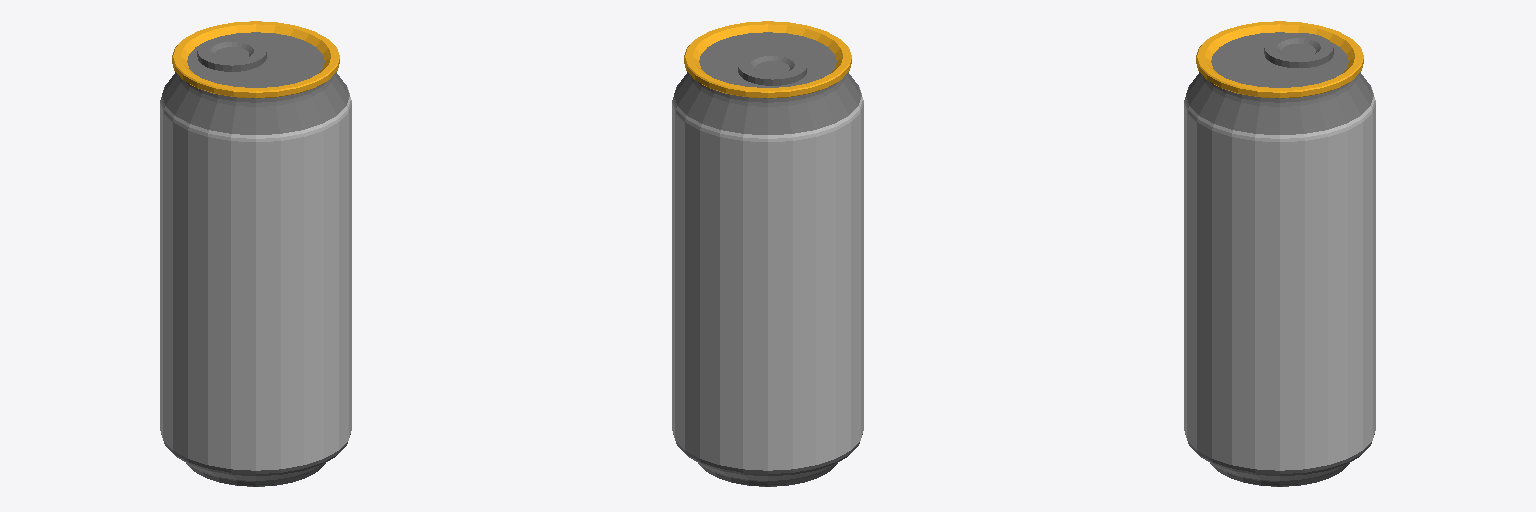
File: bishop.obj
3 views of the same model, side by side, from view 1: azimuth 30°, elevation 25°; view 2: azimuth 150°, elevation 25°; view 3: azimuth 270°, elevation 25° (orthographic).
Visible parts, largest first — view 1: Cylinder.001; view 2: Cylinder.001; view 3: Cylinder.001.
Part boxes in pixels (x1,y1,x2,y2): Cylinder.001: (160, 21, 351, 486); Cylinder.001: (672, 21, 863, 486); Cylinder.001: (1184, 21, 1375, 486).
Size of the model in its own units: 2 by 4.64 by 2.